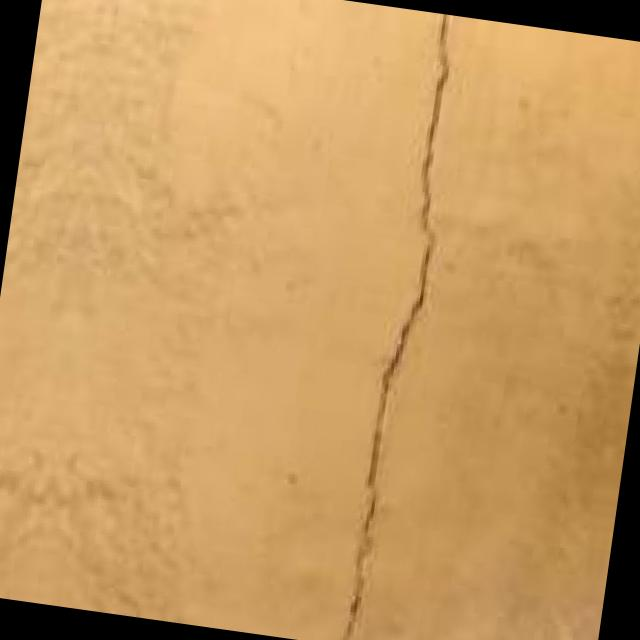crack: (210, 0, 523, 640)
